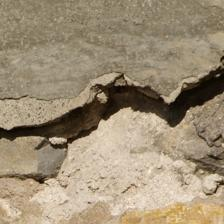Crack: (19, 85, 88, 138), (75, 89, 135, 135)
